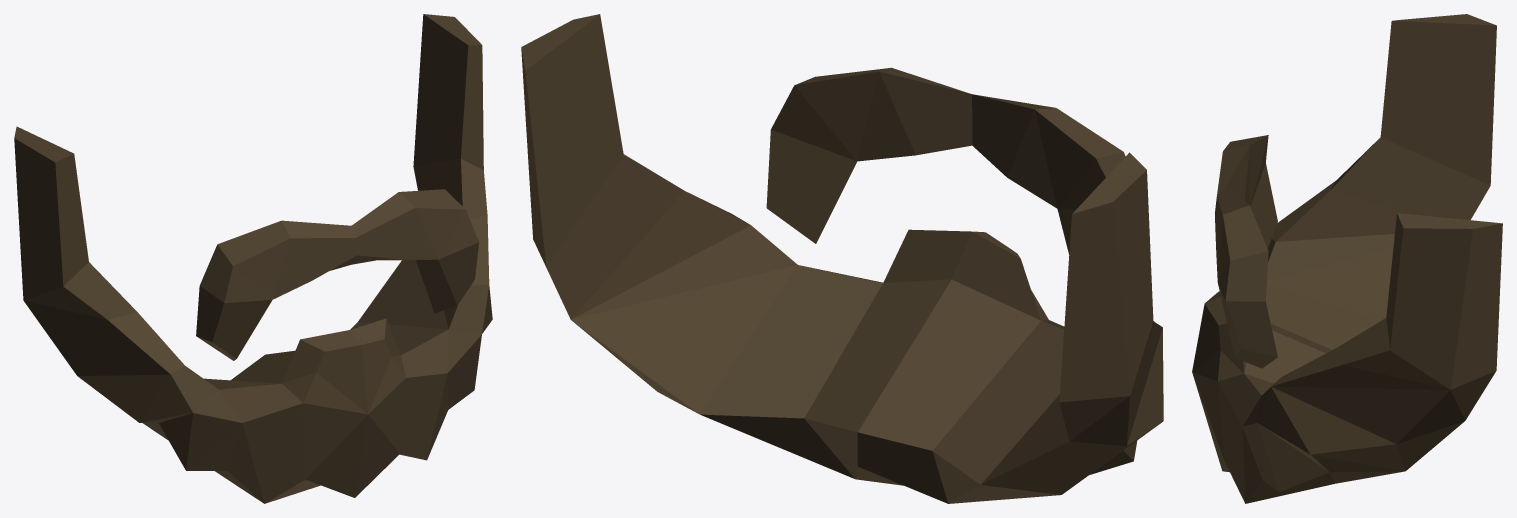
The model's file is SM_Chr_Attach_Beard_01.fbx.
The picture shows the model from 3 angles, left to right: view 1: azimuth 30°, elevation 25°; view 2: azimuth 150°, elevation 25°; view 3: azimuth 270°, elevation 25°; orthographic projection. The views are drawn at different scales.
Visible parts, largest first — view 1: SM_Chr_Attach_Beard_01; view 2: SM_Chr_Attach_Beard_01; view 3: SM_Chr_Attach_Beard_01.
Boxes of the visible parts, box(x1,y1,x2,y2) form: SM_Chr_Attach_Beard_01: box(14, 14, 492, 503); SM_Chr_Attach_Beard_01: box(521, 14, 1163, 503); SM_Chr_Attach_Beard_01: box(1192, 14, 1502, 503).
Size of the model in its own units: 23.18 by 17.37 by 13.36.
